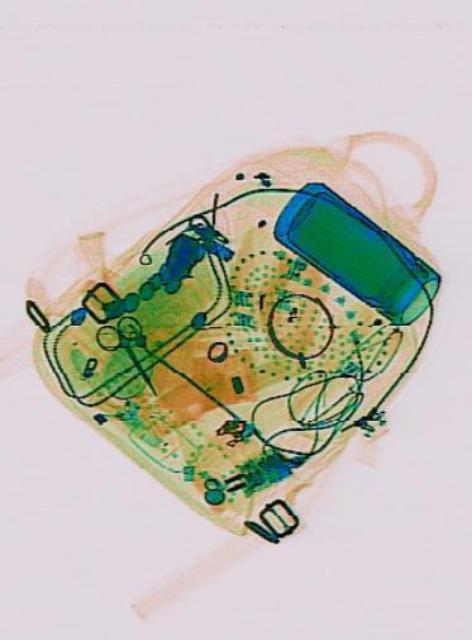Scissors: (90, 300, 171, 410)
